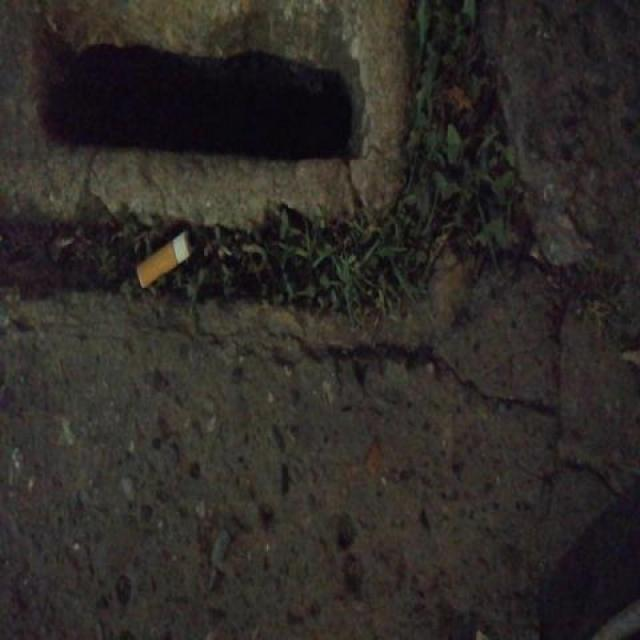non-organic waste: (131, 227, 198, 294)
